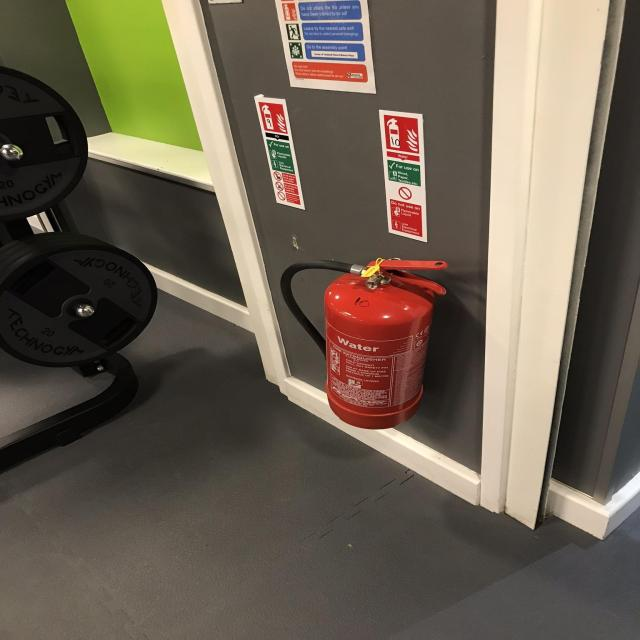fire_extinguisher: (277, 251, 456, 431)
